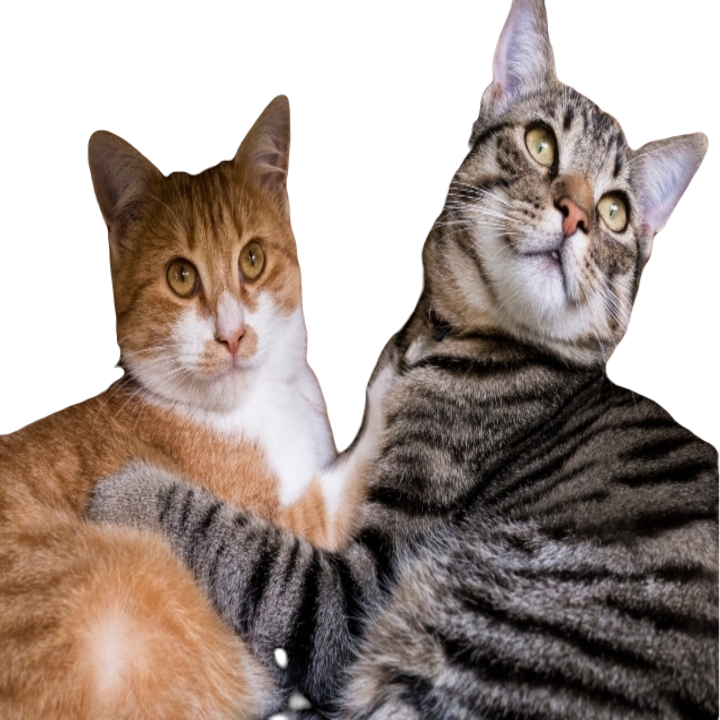Cat: (386, 6, 715, 719), (0, 74, 332, 719)
